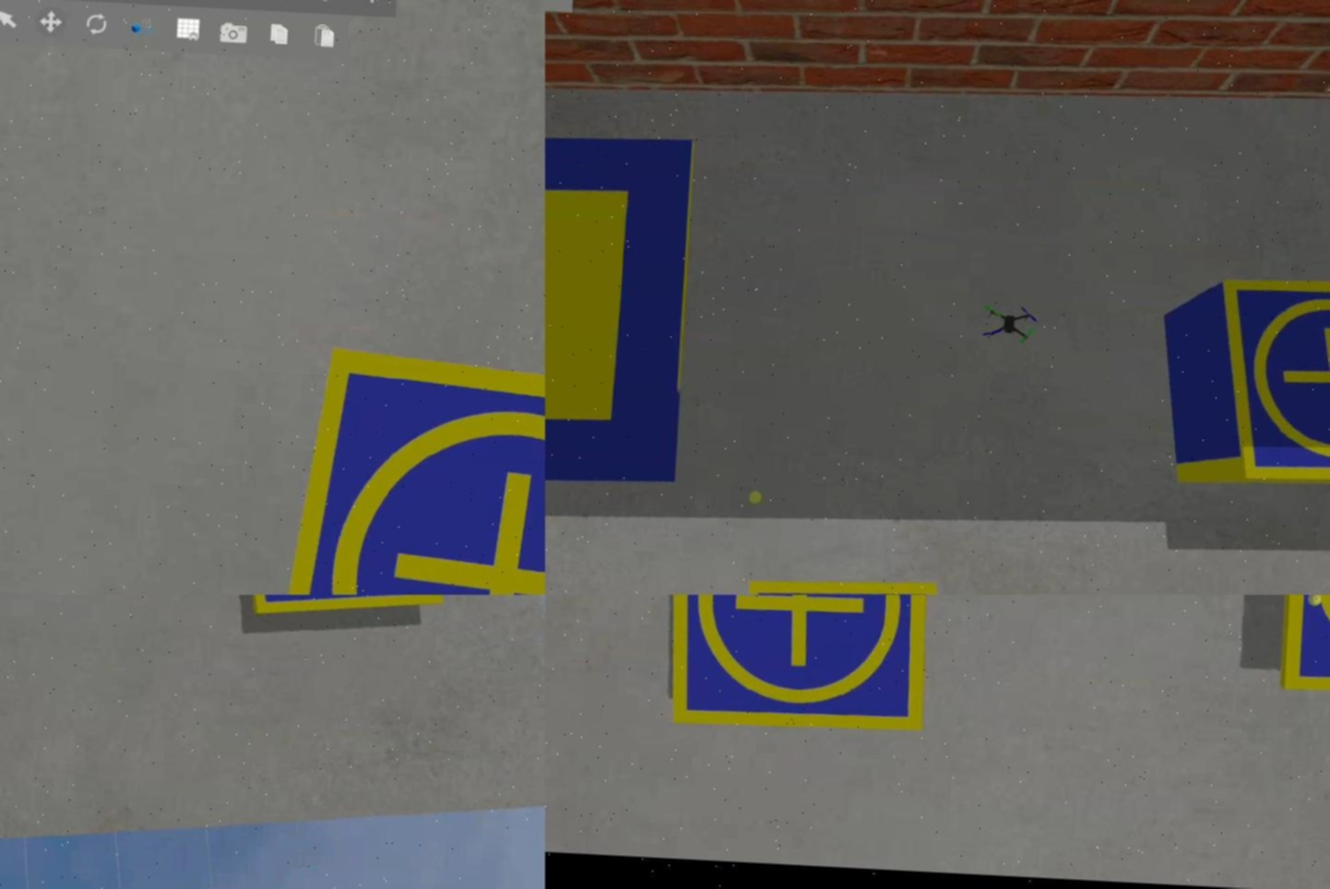large_base: (545, 113, 692, 498)
small_base: (257, 336, 545, 595), (657, 595, 935, 739), (1214, 277, 1330, 491)
